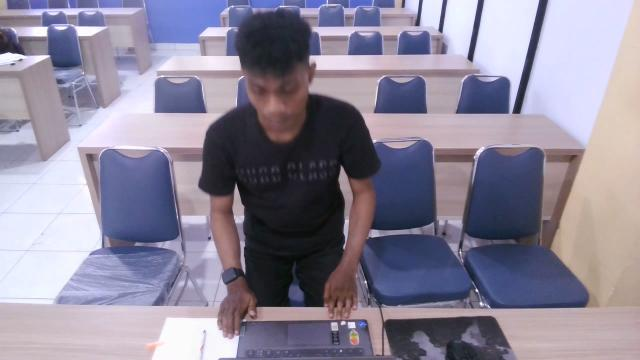Empty_Desk: (176, 5, 410, 360)
